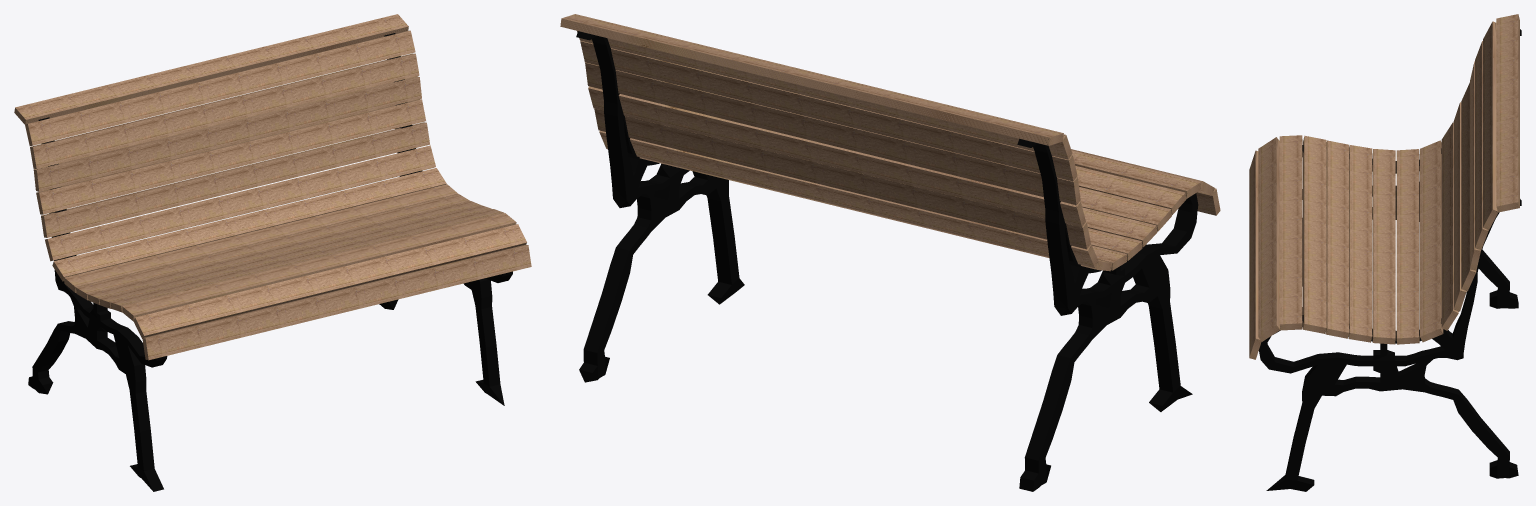
File: banco_no_estilo_de_ps1.glb
The picture shows the model from 3 angles, left to right: view 1: azimuth 30°, elevation 25°; view 2: azimuth 150°, elevation 25°; view 3: azimuth 270°, elevation 25°; orthographic projection. The views are drawn at different scales.
Parts seen in each view (by area): view 1: Object_2; view 2: Object_2; view 3: Object_2.
Part boxes in pixels (left/top/right/bottom): Object_2: left=14, top=14, right=531, bottom=491; Object_2: left=560, top=14, right=1220, bottom=491; Object_2: left=1249, top=14, right=1521, bottom=491.
Bounding box in the file's own units: 6.64 × 4.92 × 4.06.
1 material, 1 textured.
